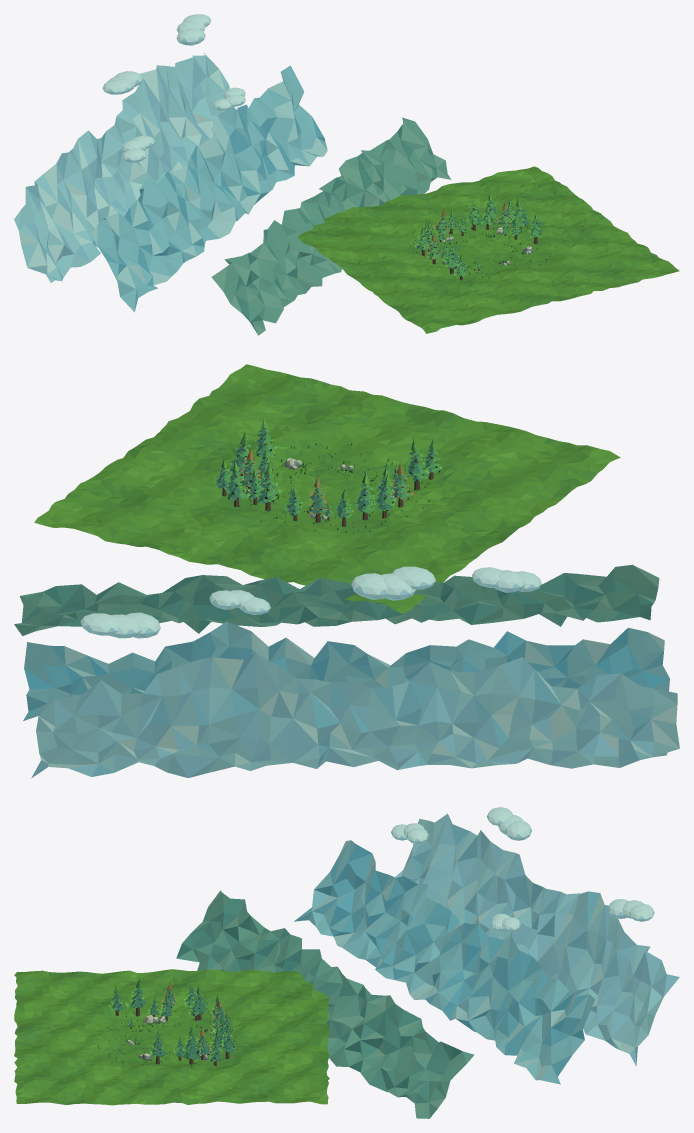
Rendered from forest-alpine.glb.
The picture shows the model from 3 angles, top to bottom: view 1: azimuth 30°, elevation 25°; view 2: azimuth 150°, elevation 25°; view 3: azimuth 270°, elevation 25°; orthographic projection. The views are drawn at different scales.
Visible parts, largest first — view 1: Distant mountain and cloud sky, Emerald meadow facets, Alpine pine grove; view 2: Distant mountain and cloud sky, Emerald meadow facets, Alpine pine grove, Clustered blade grass; view 3: Distant mountain and cloud sky, Emerald meadow facets, Alpine pine grove, Clustered blade grass.
Boxes of the visible parts, <box> form: Distant mountain and cloud sky: <box>14,14,451,335</box>; Emerald meadow facets: <box>297,166,679,333</box>; Alpine pine grove: <box>414,191,543,280</box>; Distant mountain and cloud sky: <box>14,564,679,778</box>; Emerald meadow facets: <box>34,364,620,613</box>; Alpine pine grove: <box>214,417,442,526</box>; Clustered blade grass: <box>228,443,429,532</box>; Distant mountain and cloud sky: <box>176,807,679,1118</box>; Emerald meadow facets: <box>14,969,329,1105</box>; Alpine pine grove: <box>109,978,237,1065</box>; Clustered blade grass: <box>97,1006,245,1067</box>.
Size of the model in its own units: 104 by 29.82 by 117.
